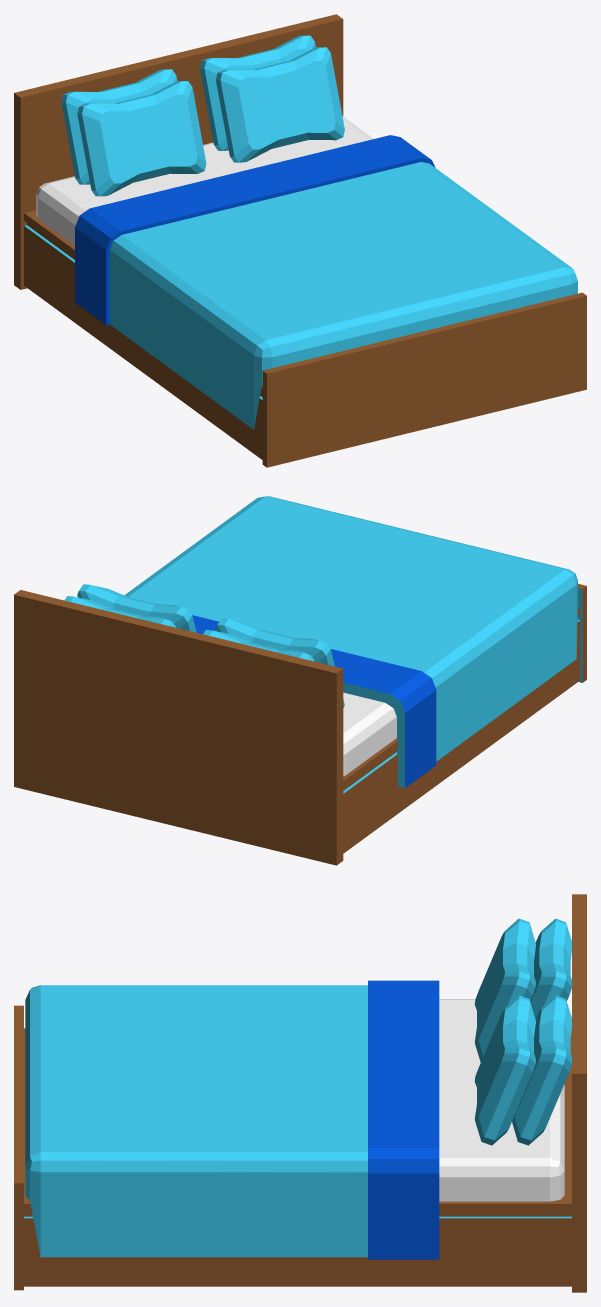
Rendered from Master Bed.fbx.
3 views of the same model, one above another, from view 1: azimuth 30°, elevation 25°; view 2: azimuth 150°, elevation 25°; view 3: azimuth 270°, elevation 25° (orthographic). The views are drawn at different scales.
Parts seen in each view (by area): view 1: Master Bed; view 2: Master Bed; view 3: Master Bed.
Part boxes in pixels (x1=…): Master Bed: x1=14, y1=14, x2=586, y2=467; Master Bed: x1=14, y1=496, x2=586, y2=865; Master Bed: x1=14, y1=894, x2=586, y2=1292.
Size of the model in its own units: 296 by 164 by 390.
